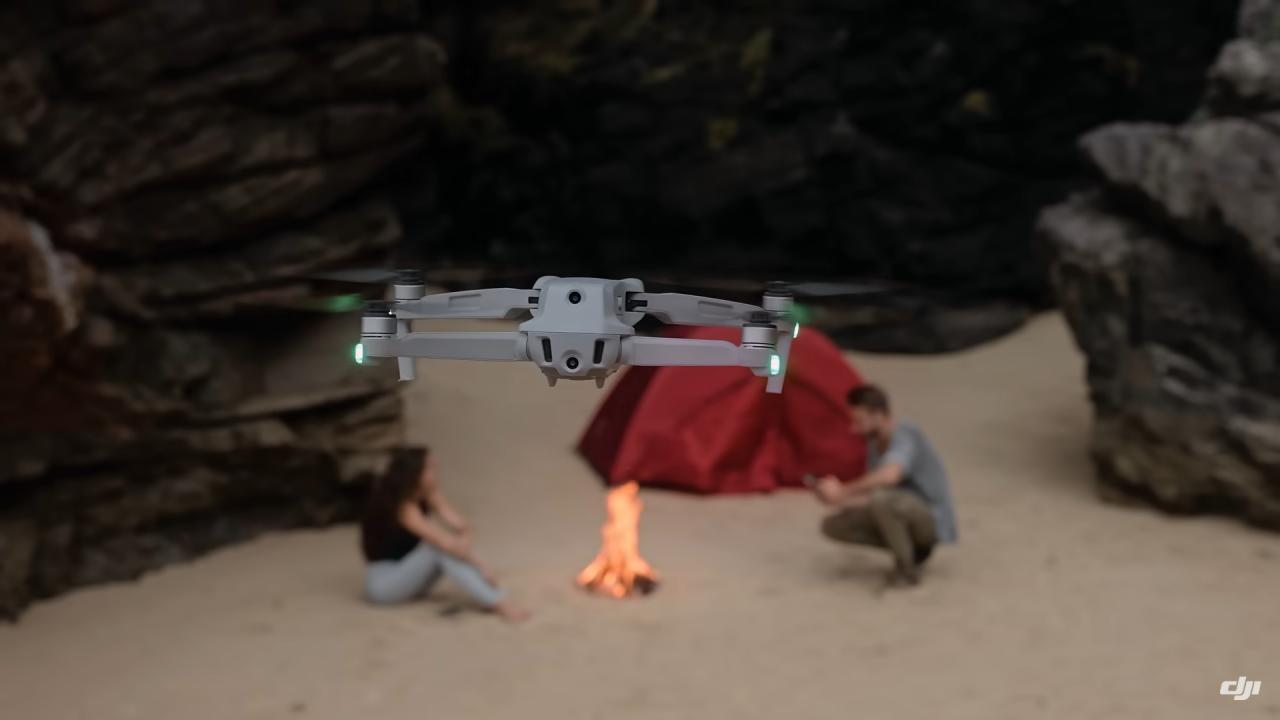Drone: (258, 243, 902, 415)
